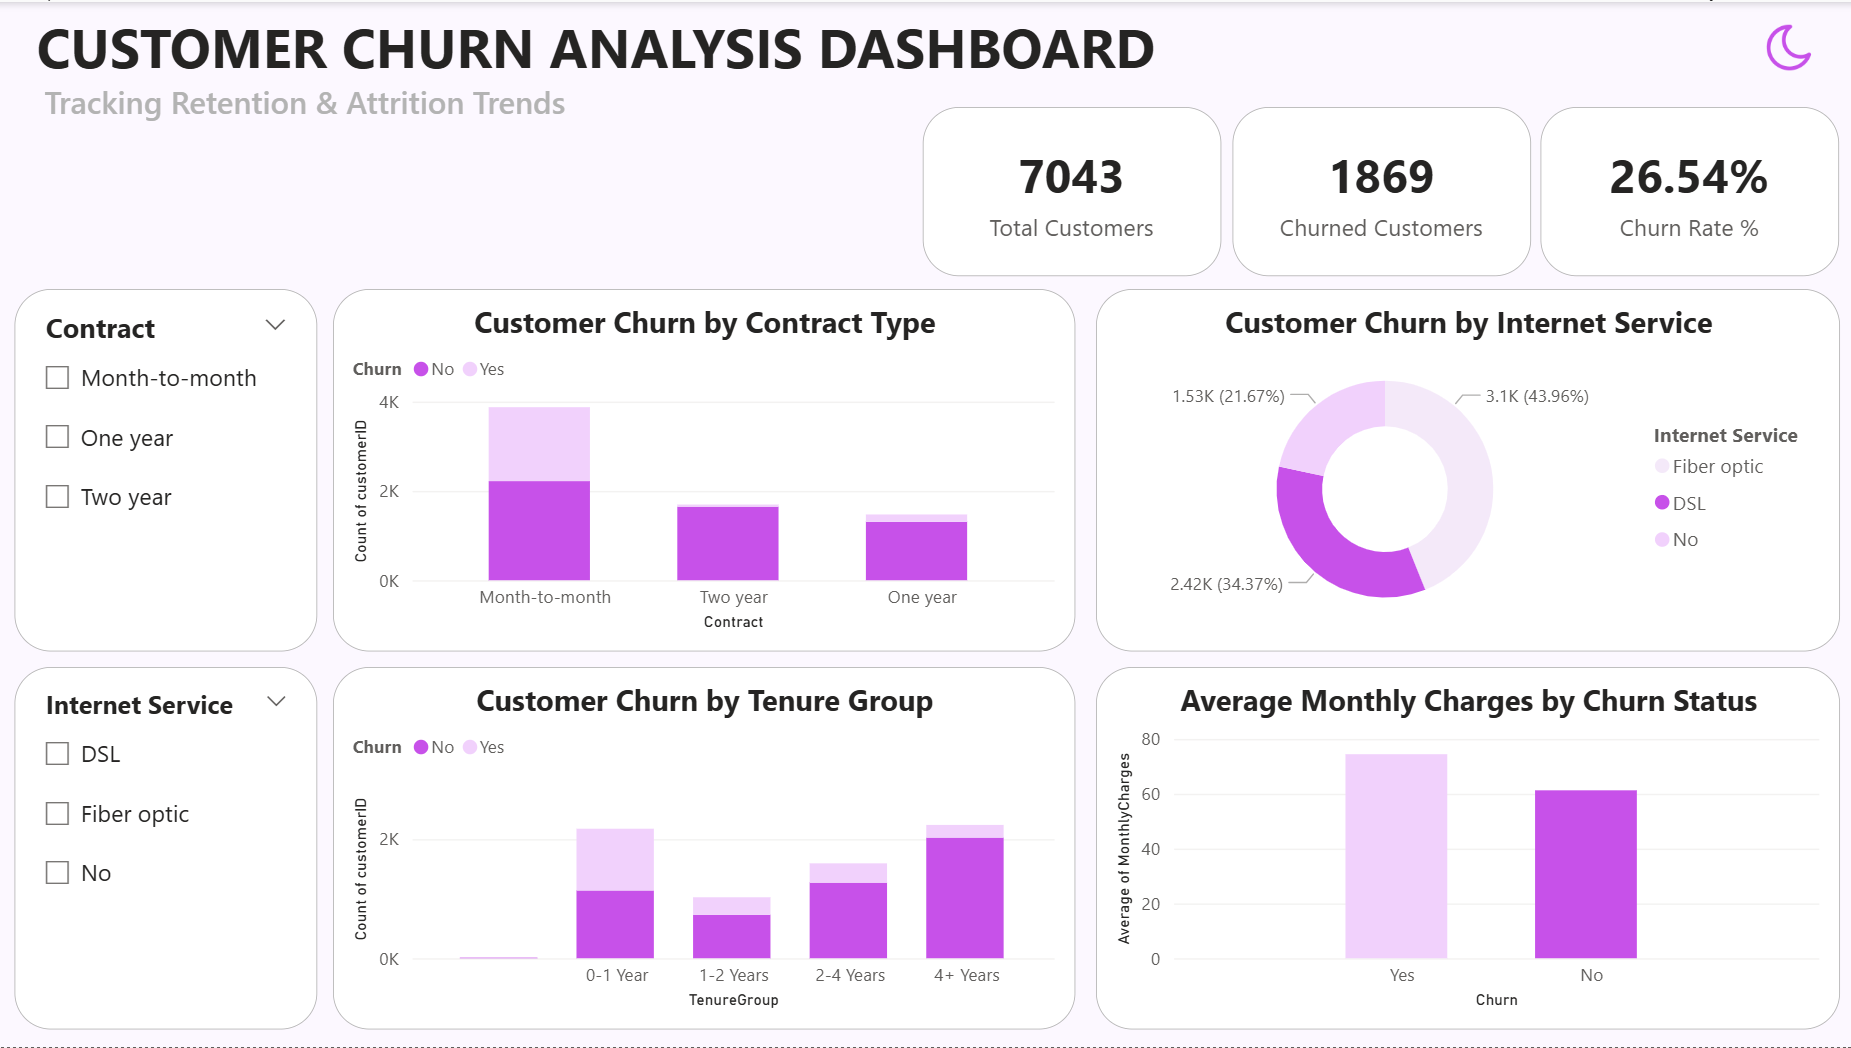

Layout of this report page (visuals, bound fields, positions):
{"tool":"powerbi","page":{"name":"Light","canvas":[1280,720],"ordinal":0},"visuals":[{"type":"card","fields":{"Values":["telco_clean.Total Customers"]},"box":[637.5,72.7,205.6,116.5],"z":0},{"type":"card","fields":{"Values":["telco_clean.Churned Customers"]},"box":[850.6,72.7,205.6,116.5],"z":1000},{"type":"card","fields":{"Values":["telco_clean.Churn Rate %"]},"box":[1063.8,72.7,205.6,116.5],"z":2000},{"type":"columnChart","title":"Customer Churn by Contract Type","fields":{"Category":["telco_clean.Contract"],"Series":["telco_clean.Churn"],"Y":["CountNonNull(telco_clean.customerID)"]},"box":[231.7,197.4,511.3,249.5],"z":3000},{"type":"columnChart","title":"Customer Churn by Tenure Group","fields":{"Category":["telco_clean.TenureGroup"],"Y":["CountNonNull(telco_clean.customerID)"],"Series":["telco_clean.Churn"]},"box":[231.7,457.9,511.3,249.5],"z":4000},{"type":"clusteredColumnChart","title":"Average Monthly Charges by Churn Status","fields":{"Category":["telco_clean.Churn"],"Y":["Avg(telco_clean.MonthlyCharges)"]},"box":[756.7,457.9,512.7,249.5],"z":5000},{"type":"textbox","box":[12.3,0,799.2,63.1],"z":6000},{"type":"donutChart","title":"Customer Churn by Internet Service","fields":{"Category":["telco_clean.InternetService"],"Y":["CountNonNull(telco_clean.customerID)"]},"box":[756.7,197.4,512.7,249.5],"z":7000},{"type":"slicer","fields":{"Values":["telco_clean.Contract"]},"box":[12.3,197.4,208.4,249.5],"z":8000},{"type":"slicer","fields":{"Values":["telco_clean.InternetService"]},"box":[12.3,457.9,208.4,249.5],"z":9000},{"type":"textbox","box":[27.4,49.4,385.2,48],"z":10000},{"type":"image","title":"Moon","box":[1216.5,15.7,36.2,31.3],"z":10001}]}

Visuals, with their boxes in screenshot pixels (x1, y1, x2, y2), scaled from the page's 1280x720 canvas onto the 1851x1048 screenshot:
card - telco_clean.Total Customers: locate(922, 106, 1219, 275)
card - telco_clean.Churned Customers: locate(1230, 106, 1527, 275)
card - telco_clean.Churn Rate %: locate(1538, 106, 1836, 275)
"Customer Churn by Contract Type" columnChart: locate(335, 287, 1074, 650)
"Customer Churn by Tenure Group" columnChart: locate(335, 666, 1074, 1030)
"Average Monthly Charges by Churn Status" clusteredColumnChart: locate(1094, 666, 1836, 1030)
textbox: locate(18, 0, 1174, 92)
"Customer Churn by Internet Service" donutChart: locate(1094, 287, 1836, 650)
slicer - telco_clean.Contract: locate(18, 287, 319, 650)
slicer - telco_clean.InternetService: locate(18, 666, 319, 1030)
textbox: locate(40, 72, 597, 142)
"Moon" image: locate(1759, 23, 1812, 68)
